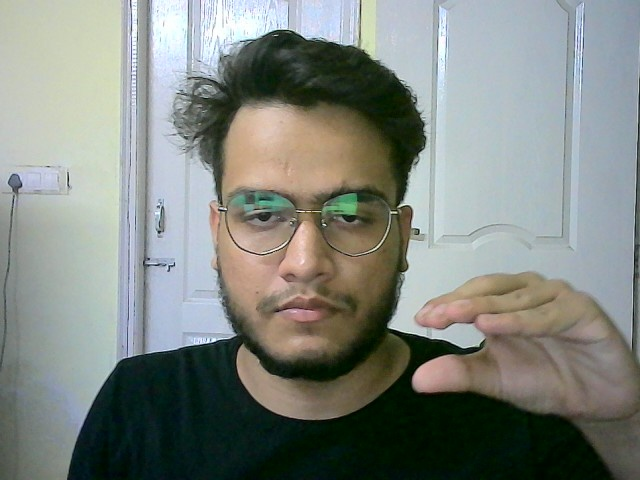No: (408, 262, 640, 426)
